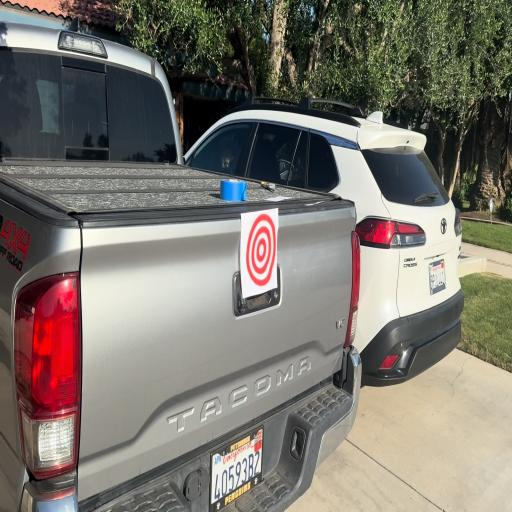bullseye: (245, 208, 278, 299)
